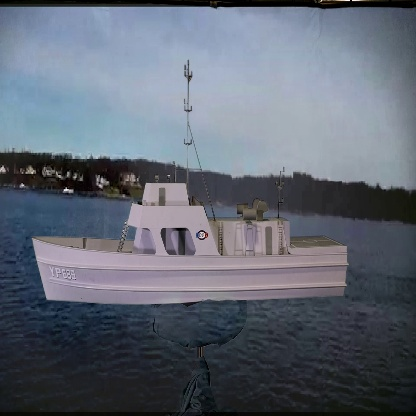YP689: (30, 51, 352, 304)
